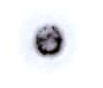cancer: (13, 6, 82, 72)
